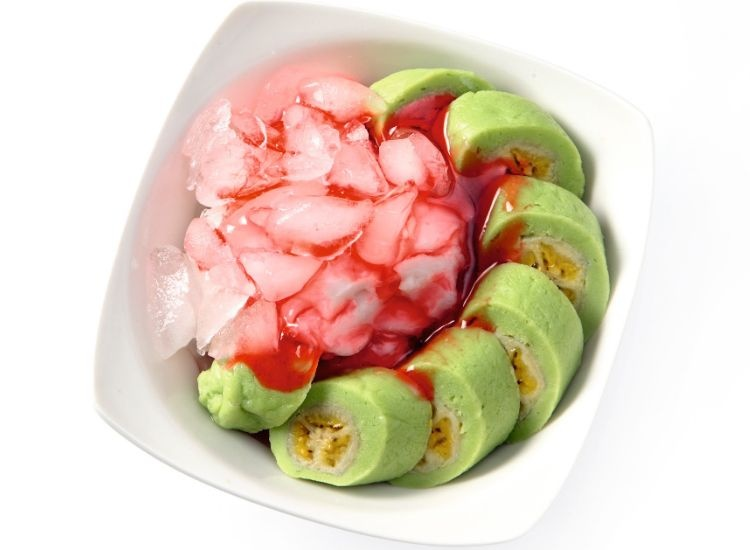pisang_ijo: (264, 357, 410, 486)
